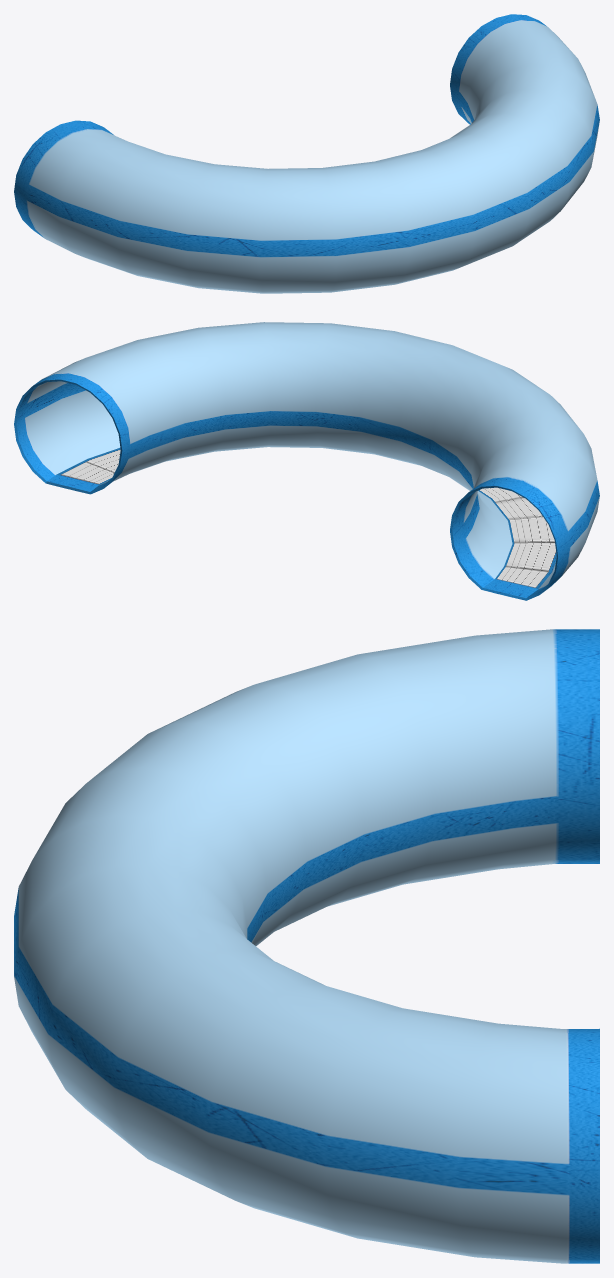
Rendered from FUT0110020.fbx.
The picture shows the model from 3 angles, top to bottom: view 1: azimuth 30°, elevation 25°; view 2: azimuth 150°, elevation 25°; view 3: azimuth 270°, elevation 25°; orthographic projection. The views are drawn at different scales.
Parts seen in each view (by area): view 1: smFUT0110020; view 2: smFUT0110020; view 3: smFUT0110020.
Part boxes in pixels (bbox=[...]): smFUT0110020: bbox=[14, 14, 599, 293]; smFUT0110020: bbox=[14, 322, 599, 600]; smFUT0110020: bbox=[14, 629, 599, 1263].
Size of the model in its own units: 1078 by 204 by 535.
1 material, 1 textured.
